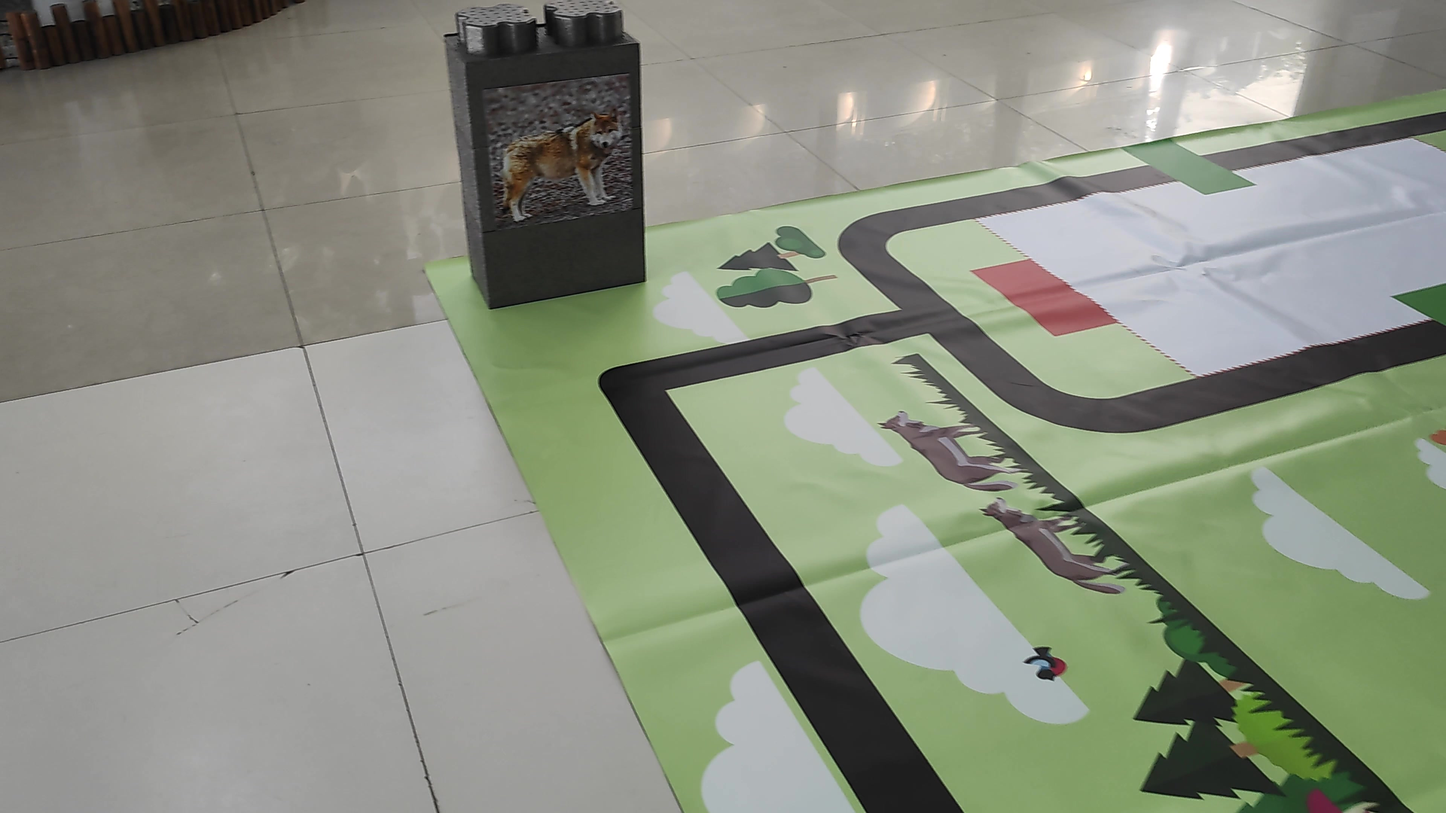wolf: (496, 90, 638, 212)
